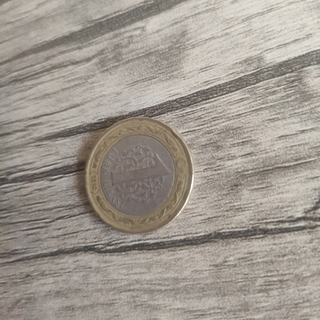1TL: (82, 115, 195, 235)
